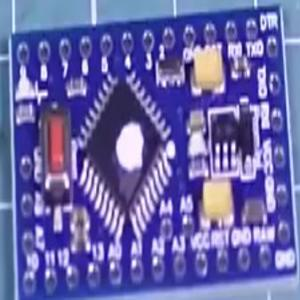duino: (3, 17, 292, 294)
